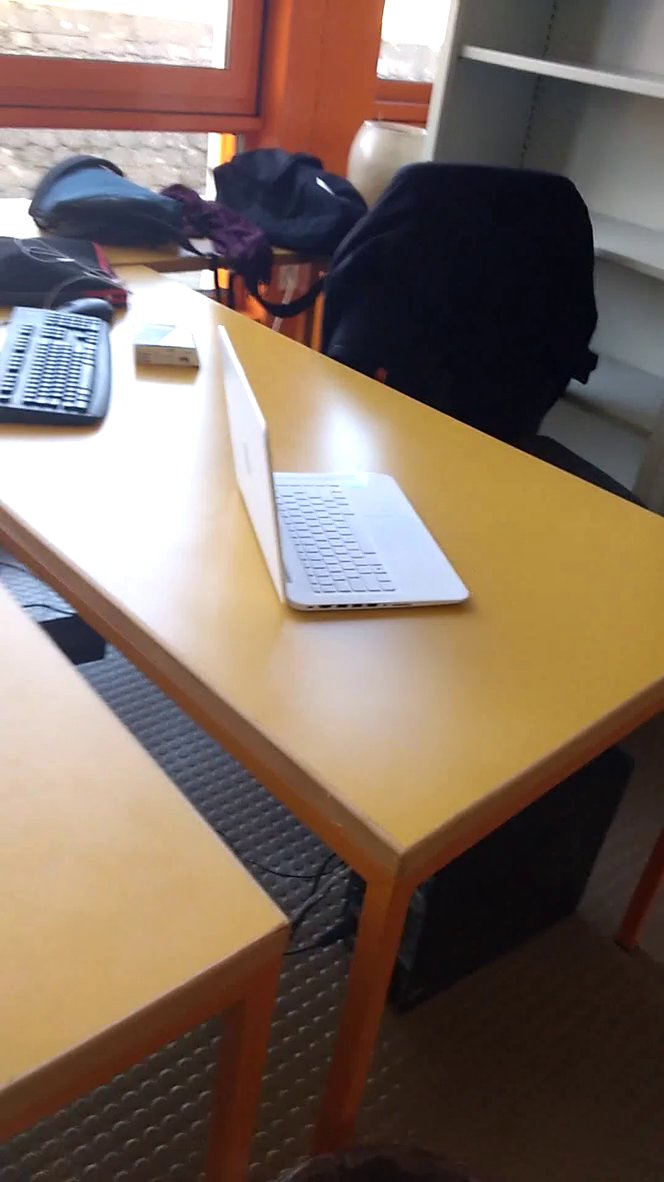bag: (210, 141, 377, 279), (27, 146, 191, 258)
chair: (315, 152, 613, 463)
laptop: (208, 314, 473, 626)
